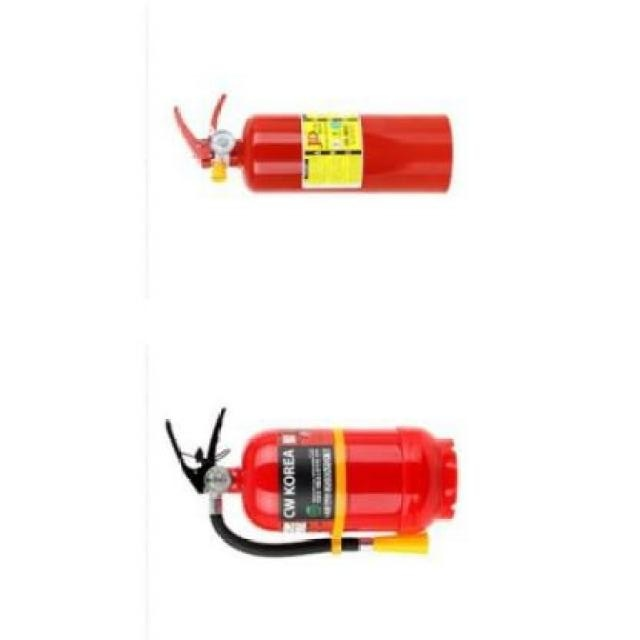fire extinguisher: (165, 407, 458, 559), (173, 92, 453, 196)
